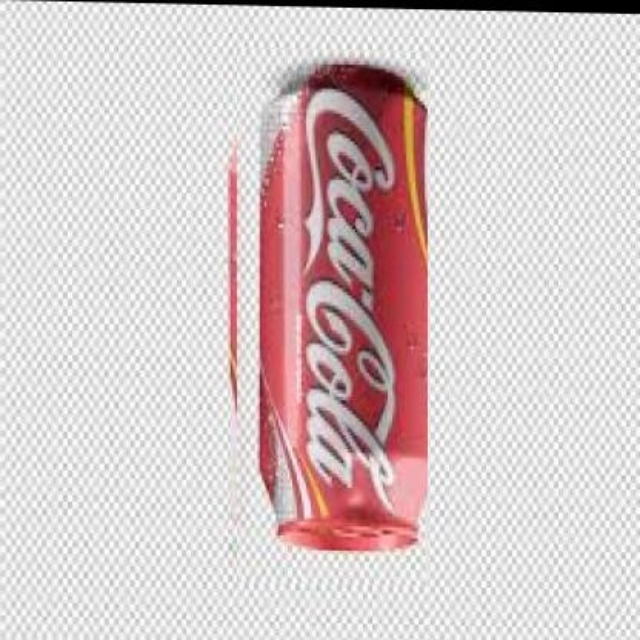trash: (260, 65, 426, 549)
